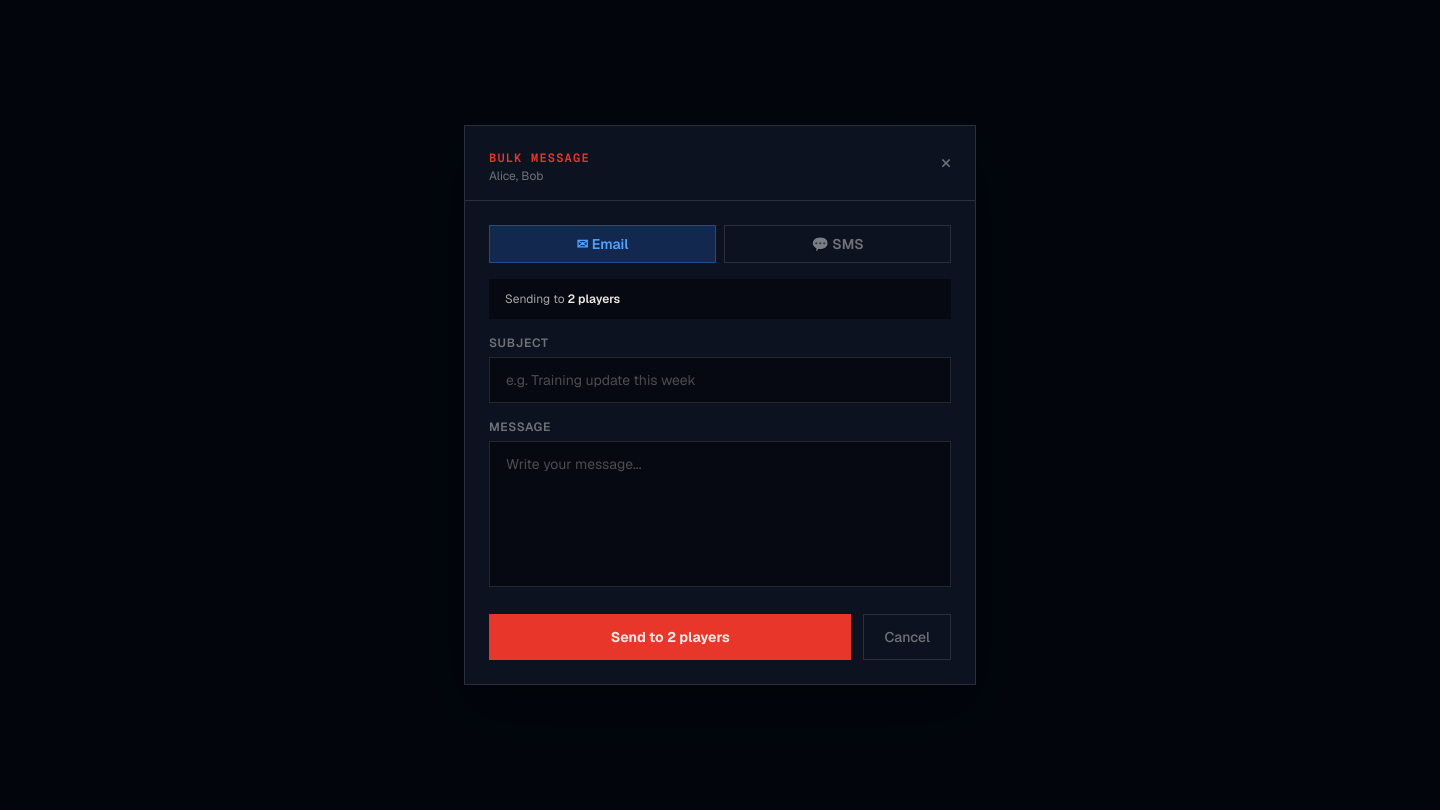
Test: BulkMessageModal › skips players missing the selected channel's contact info, and warns which ones
Click the button "💬 SMS".
click(838, 244)  # box 724,225 -> 951,263
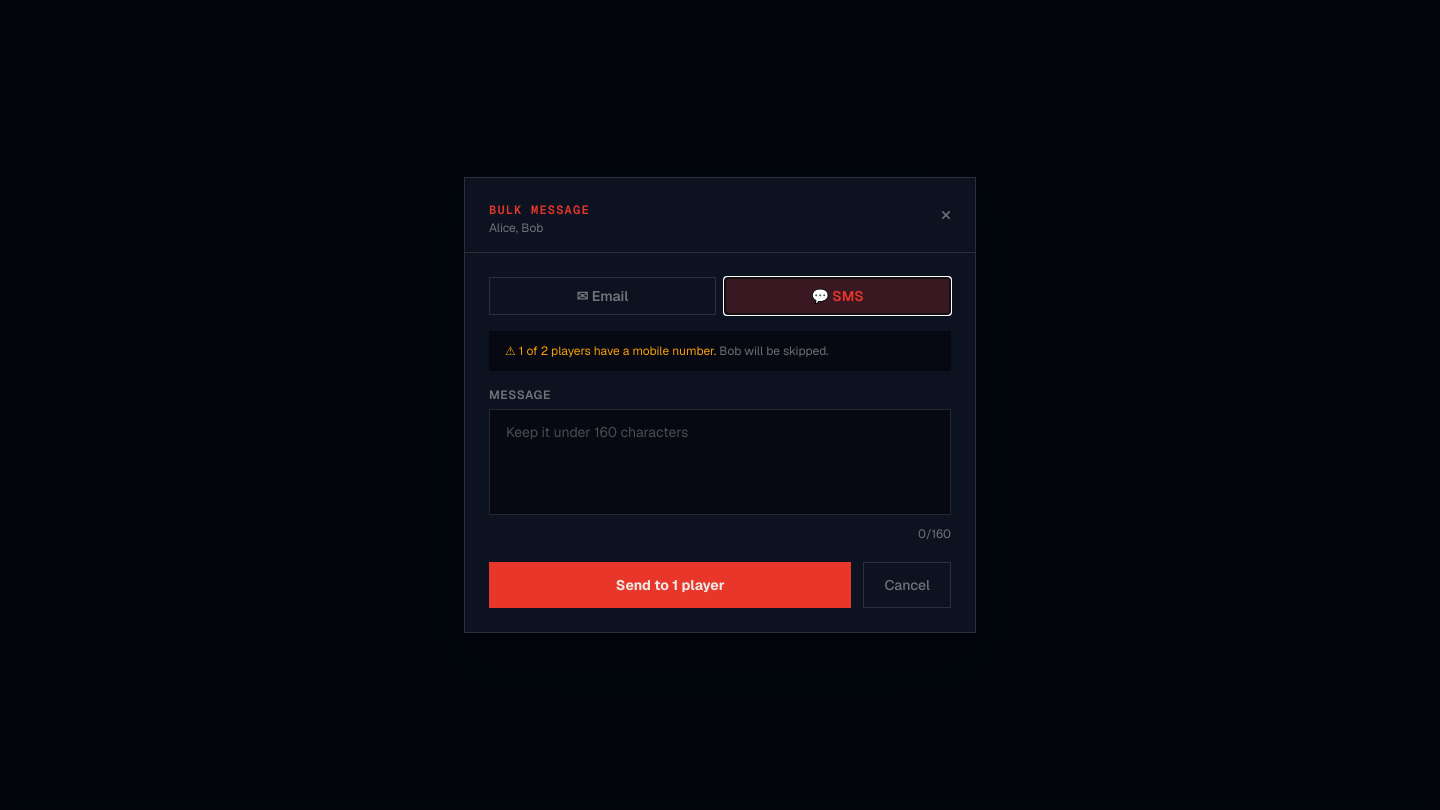
Now the text "⚠ 1 of 2 players have a mobile number. Bob will be skipped." is shown, box 505,343 -> 829,359
Now the text "Bob will be skipped." is shown, box 719,343 -> 829,359
Now the button "Send to 1 player" is shown, box 489,562 -> 851,608
